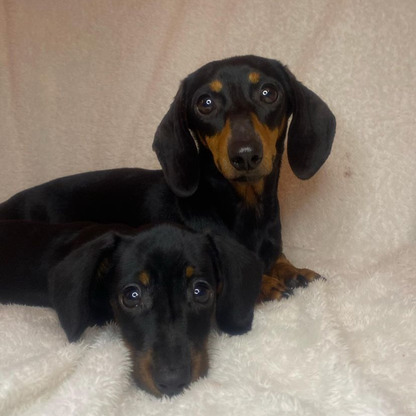dachshund: (58, 211, 291, 401), (119, 47, 342, 203)
